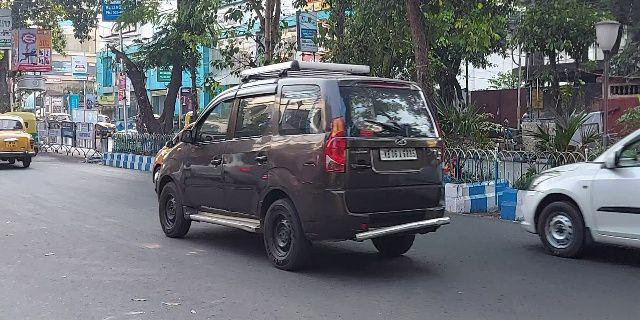Car: (151, 59, 445, 270), (516, 120, 640, 257), (1, 113, 37, 171)
